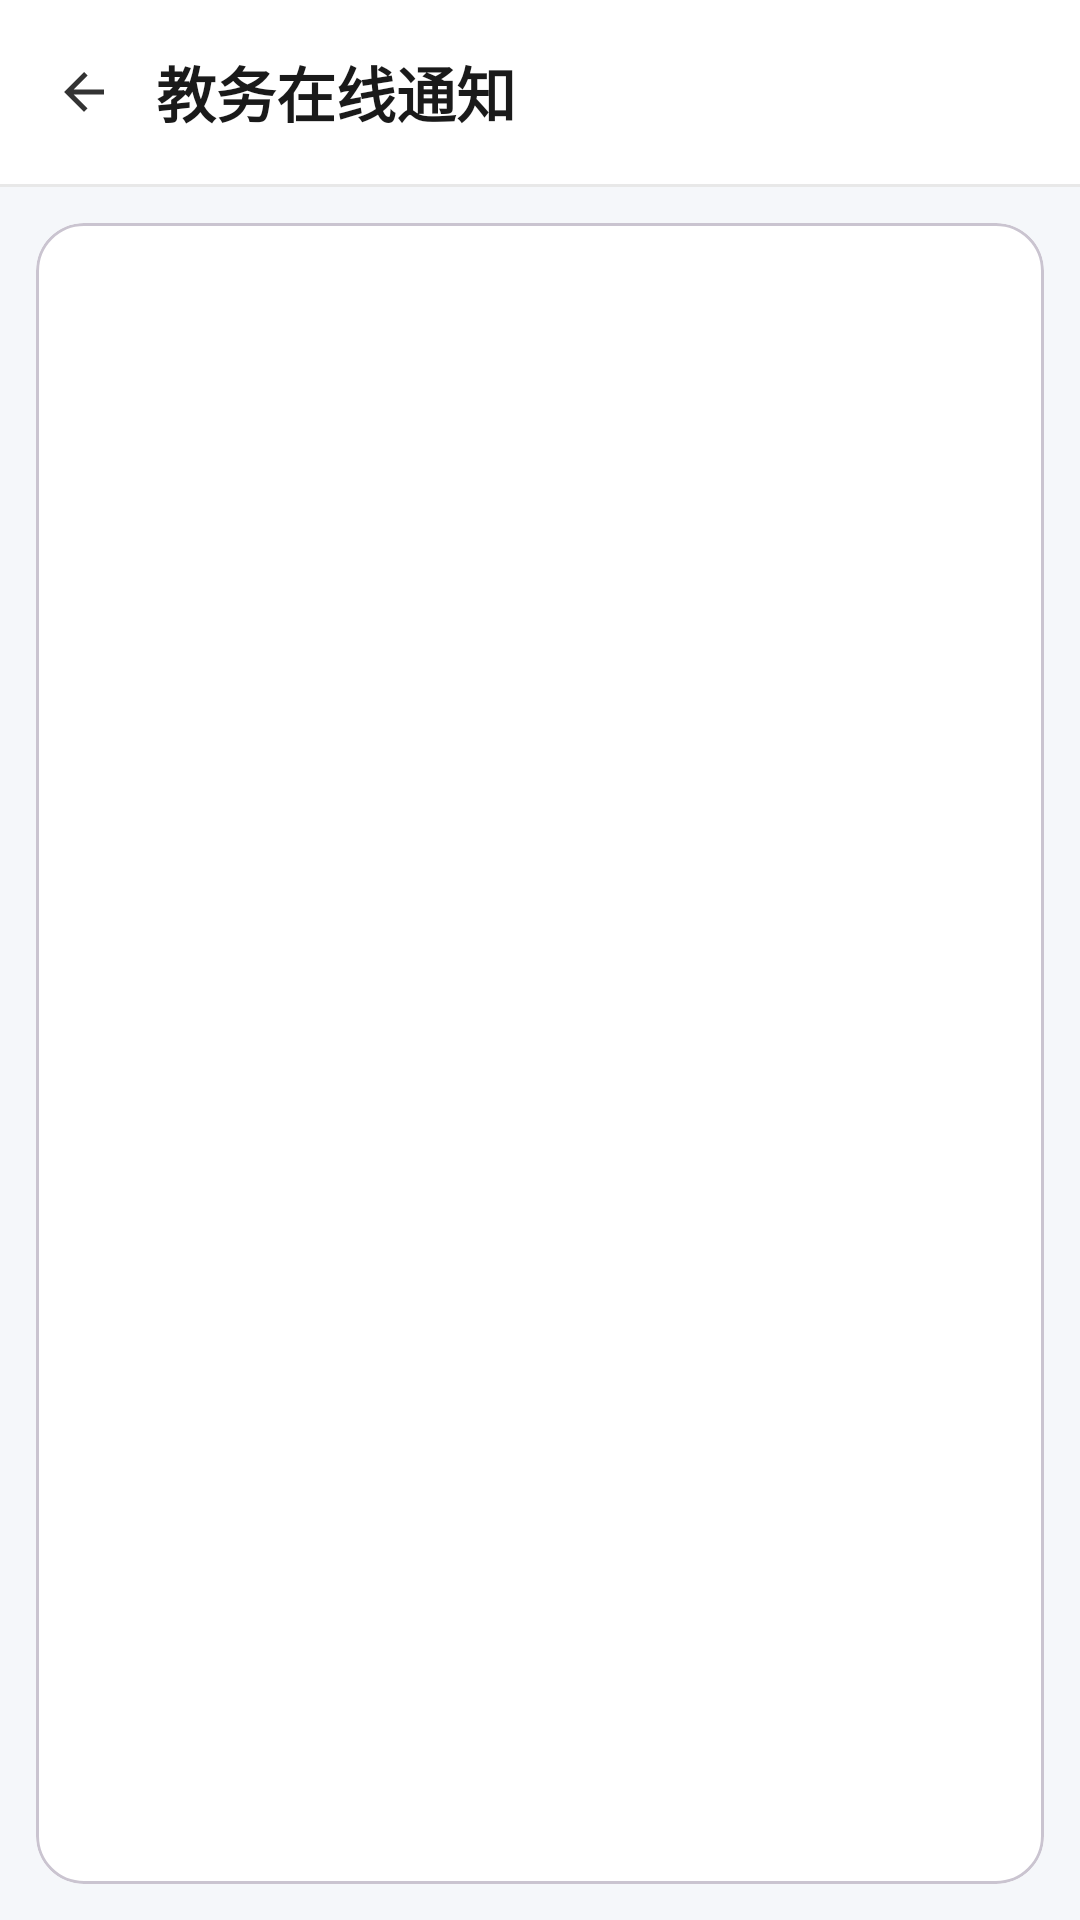

Named icons in this screenshot (1080*1920) and their bounding boxes, box=[x1, y1, x2, y2]:
back: box=[64, 72, 104, 112]
